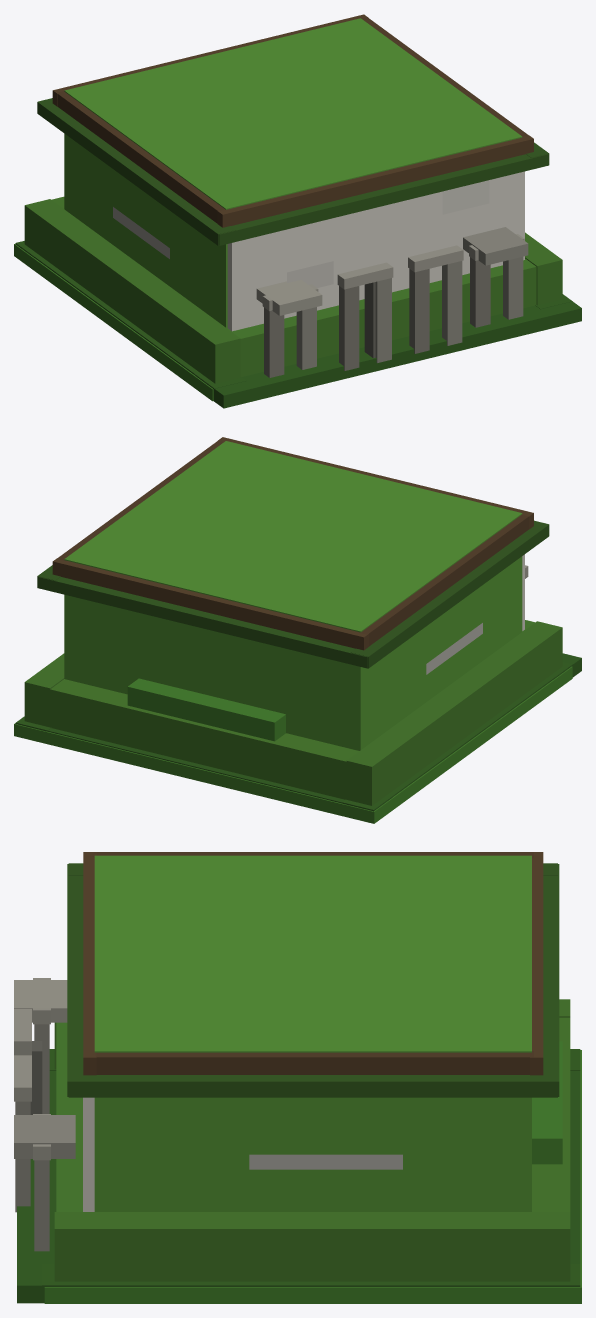
The model's file is MiniStonehengeSil.fbx.
3 renders of one model, top to bottom at view 1: azimuth 30°, elevation 25°; view 2: azimuth 150°, elevation 25°; view 3: azimuth 270°, elevation 25°, orthographic. The views are drawn at different scales.
Visible parts, largest first — view 1: MS_S_All; view 2: MS_S_All; view 3: MS_S_All.
Part boxes in pixels (x1,y1,x2,y2): MS_S_All: (14, 14, 581, 408); MS_S_All: (14, 437, 581, 823); MS_S_All: (14, 852, 581, 1303).
Bounding box in the file's own units: 44.04 × 20 × 44.44.
